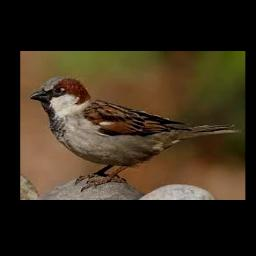Sparrow: (30, 76, 242, 191)
